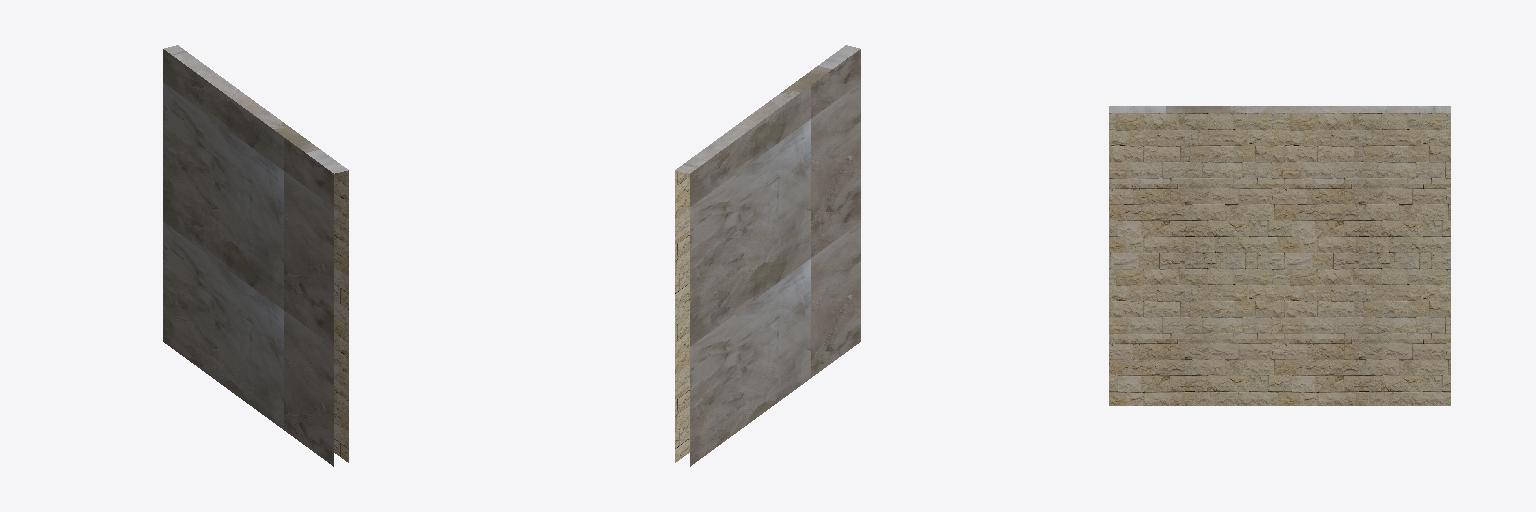
3 renders of one model, left to right at view 1: azimuth 30°, elevation 25°; view 2: azimuth 150°, elevation 25°; view 3: azimuth 270°, elevation 25°, orthographic.
Visible parts, largest first — view 1: Cube.005; view 2: Cube.005; view 3: Cube.005.
Part boxes in pixels (bbox=[...]): Cube.005: bbox=[163, 45, 348, 466]; Cube.005: bbox=[675, 45, 860, 466]; Cube.005: bbox=[1109, 106, 1450, 405].
Bounding box in the file's own units: 0.2707 × 5.13 × 5.42.
2 materials, 2 textured.